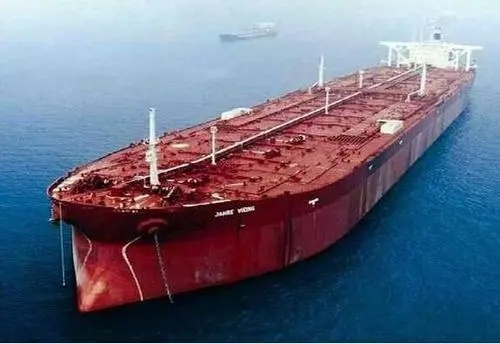Cargoship: (46, 19, 487, 313)
